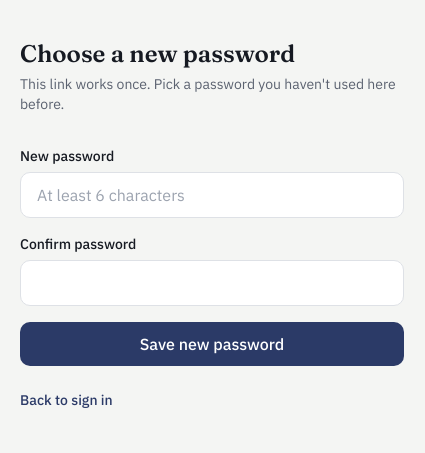
Test: password recovery pages › refuses to submit two different passwords
The width and height of the screenshot is (425, 453).
In the password field labelled "New password": x=212, y=195 [20, 172, 404, 218], type "password123"
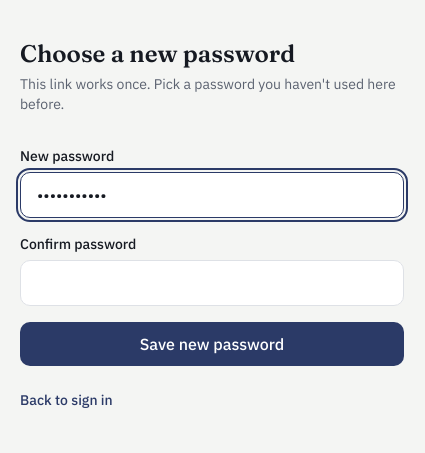
In the password field labelled "Confirm password": x=212, y=283 [20, 260, 404, 306], type "password124"
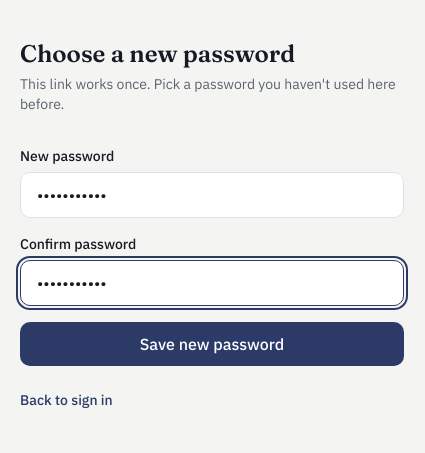
Click the button "Save new password": x=212, y=344 [20, 322, 404, 366]
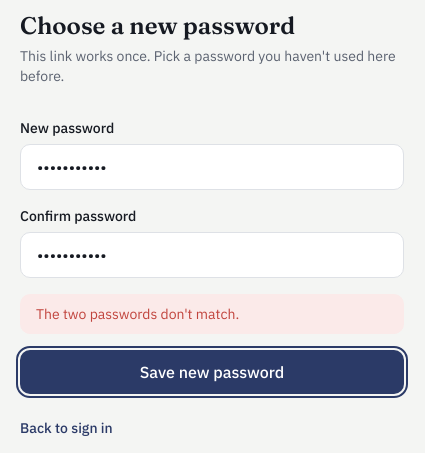
Result: the message shows "don't match" at [36, 305, 239, 323]
